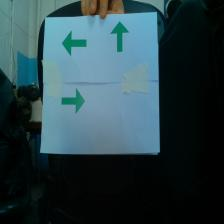left: (61, 30, 86, 56)
right: (61, 89, 85, 114)
